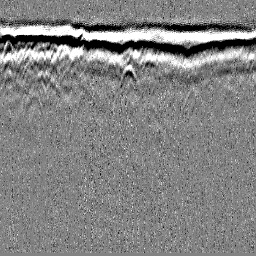cavity: (120, 62, 139, 85)
